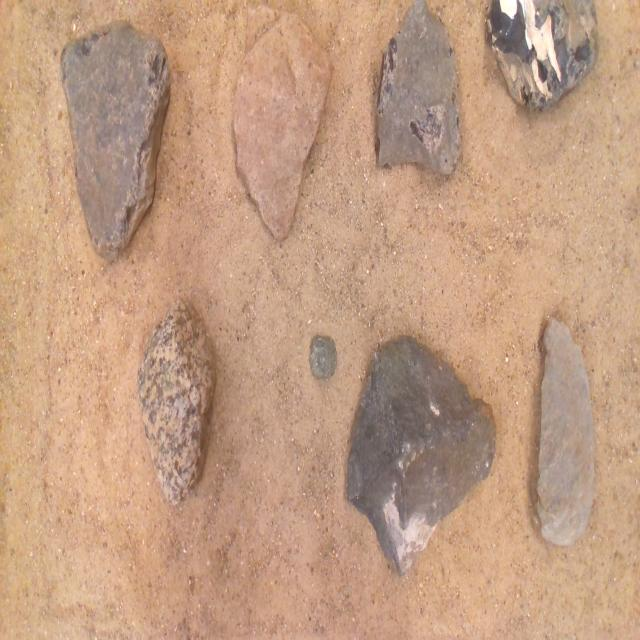rock: (347, 337, 496, 574), (61, 23, 169, 260), (233, 12, 331, 240), (137, 299, 215, 504), (376, 0, 460, 174), (536, 318, 594, 545), (487, 0, 597, 108), (310, 336, 336, 378)
